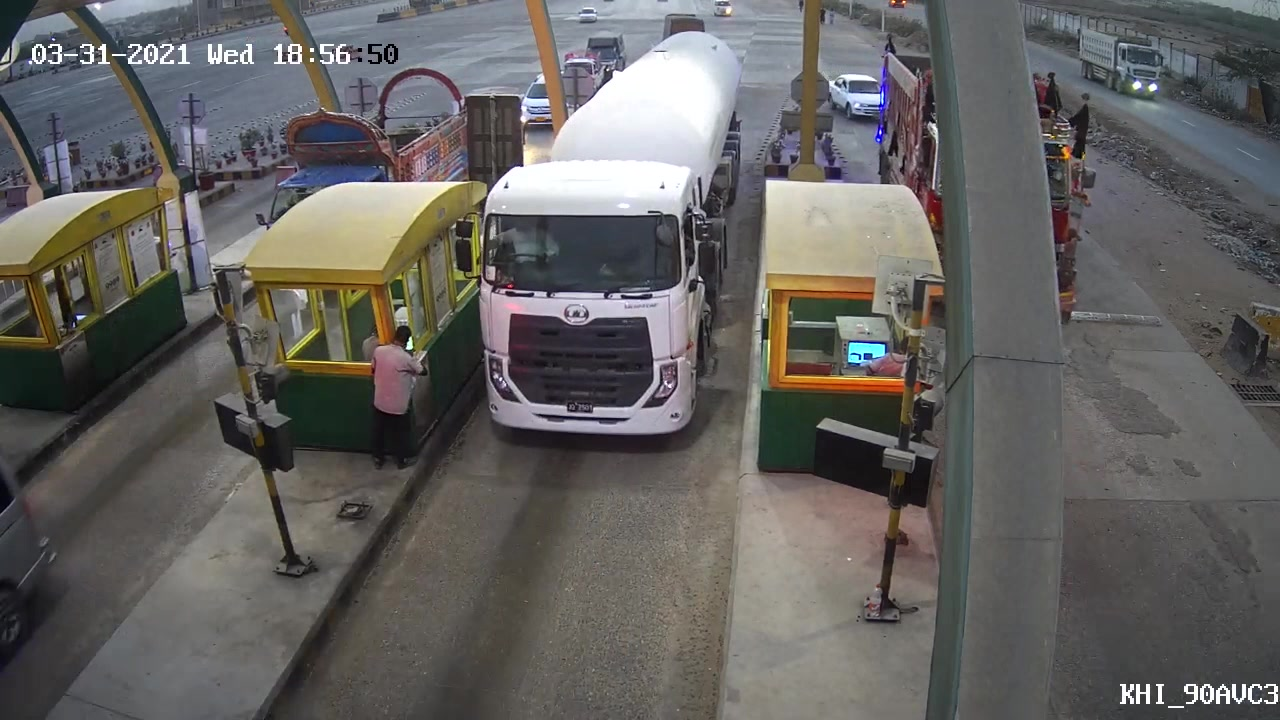F6: (462, 24, 757, 456)
